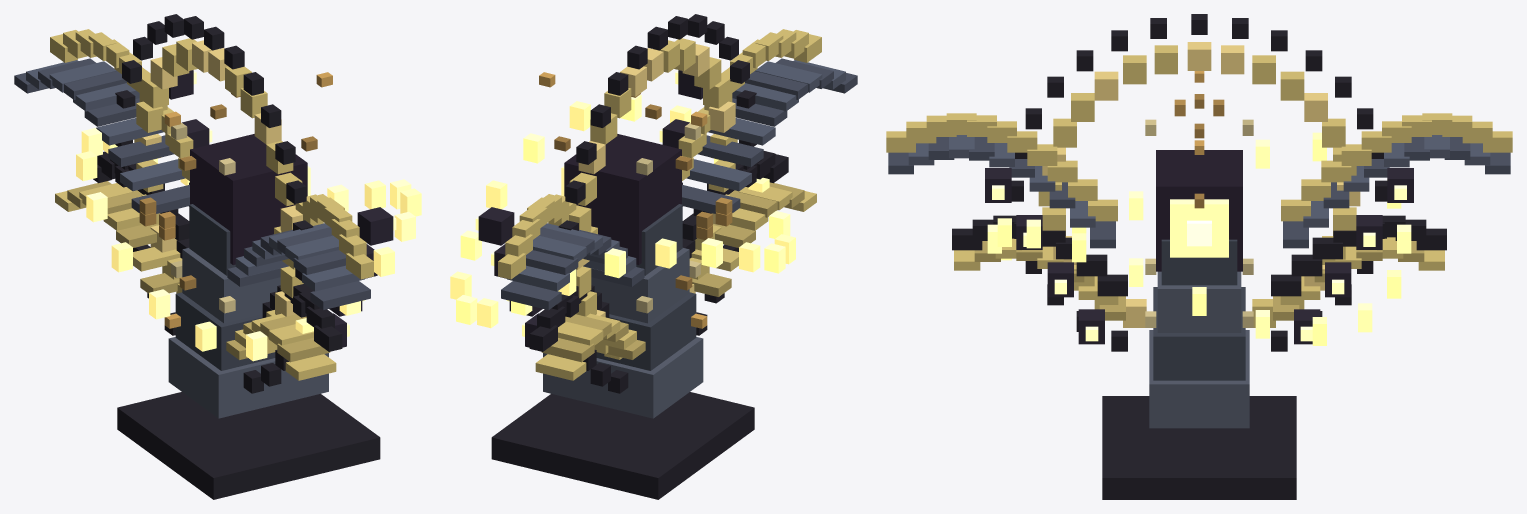
Rendered from eclipse-watcher.glb.
3 views of the same model, side by side, from view 1: azimuth 30°, elevation 25°; view 2: azimuth 150°, elevation 25°; view 3: azimuth 270°, elevation 25° (orthographic).
Parts seen in each view (by area): view 1: Wings, Base, Body, LowerWings, Halo, Core, Runes, OuterHalo, SatelliteEyes, Scales, Trim; view 2: Wings, Base, Body, LowerWings, Runes, Halo, Core, OuterHalo, SatelliteEyes, Scales, Trim; view 3: Wings, Base, Body, Halo, LowerWings, OuterHalo, Runes, SatelliteEyes, Core, Eyes, Scales, Trim.
Boxes of the visible parts, x1,y1,x2,y2 form: Wings: [14, 29, 373, 310]; Base: [117, 392, 380, 499]; Body: [168, 204, 328, 418]; LowerWings: [55, 151, 342, 380]; Halo: [134, 38, 303, 355]; Core: [190, 134, 307, 264]; Runes: [76, 127, 421, 361]; OuterHalo: [115, 14, 313, 393]; SatelliteEyes: [169, 70, 393, 347]; Scales: [139, 93, 240, 313]; Trim: [164, 72, 332, 328]; Wings: [498, 29, 857, 310]; Base: [491, 392, 754, 499]; Body: [543, 204, 703, 418]; LowerWings: [529, 151, 816, 380]; Runes: [450, 94, 795, 328]; Halo: [569, 38, 737, 359]; Core: [564, 134, 681, 264]; OuterHalo: [558, 14, 756, 393]; SatelliteEyes: [478, 70, 702, 347]; Scales: [631, 93, 732, 313]; Trim: [539, 72, 707, 328]; Wings: [886, 113, 1512, 248]; Base: [1102, 396, 1296, 499]; Body: [1149, 239, 1249, 428]; Halo: [1038, 42, 1360, 327]; LowerWings: [952, 215, 1446, 320]; OuterHalo: [1011, 14, 1387, 351]; Runes: [987, 132, 1411, 345]; SatelliteEyes: [985, 168, 1413, 344]; Core: [1156, 150, 1242, 271]; Eyes: [992, 185, 1406, 341]; Scales: [1145, 99, 1253, 327]; Trim: [1194, 71, 1204, 208].
Size of the model in its own units: 4.49 by 6.76 by 9.03.
